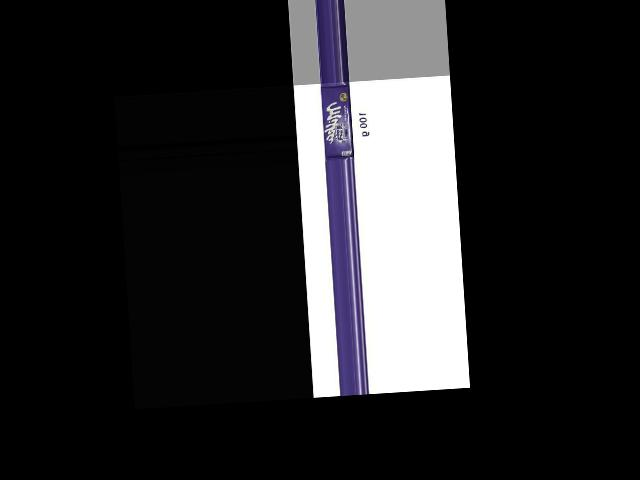chocolate: (320, 83, 359, 162)
